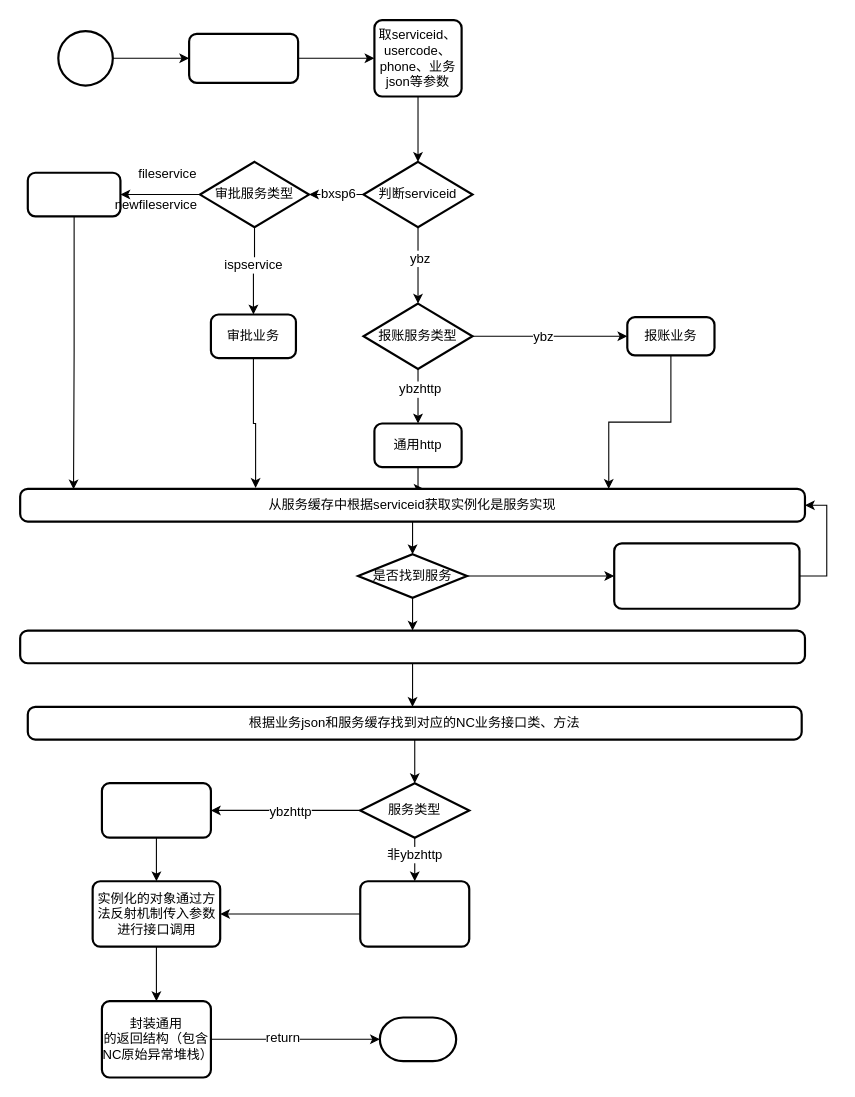
Some shapes in this 855 by 1097 pixel diagram are drawn without their labels. The shapes that lost their labels are listed below. From the top down, each one's centre as x and y in pixels, then its label:
At pixel 243 57: "友企联连接器 友报账实现入口".
At pixel 73 194: "文件服务".
At pixel 706 575: "从resources文件中初始化所有支持的NC业务接口服务缓存".
At pixel 412 646: "根据usercode和phone参数，NC服务端初始化线程绑定变量等上下文参数".
At pixel 155 810: "通过反射实例化业务接口类".
At pixel 414 913: "通过NCLocator在容器中实例化业务实现类".
